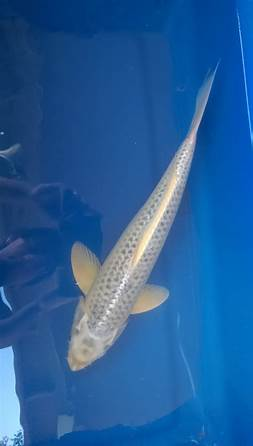white: (66, 56, 223, 372)
